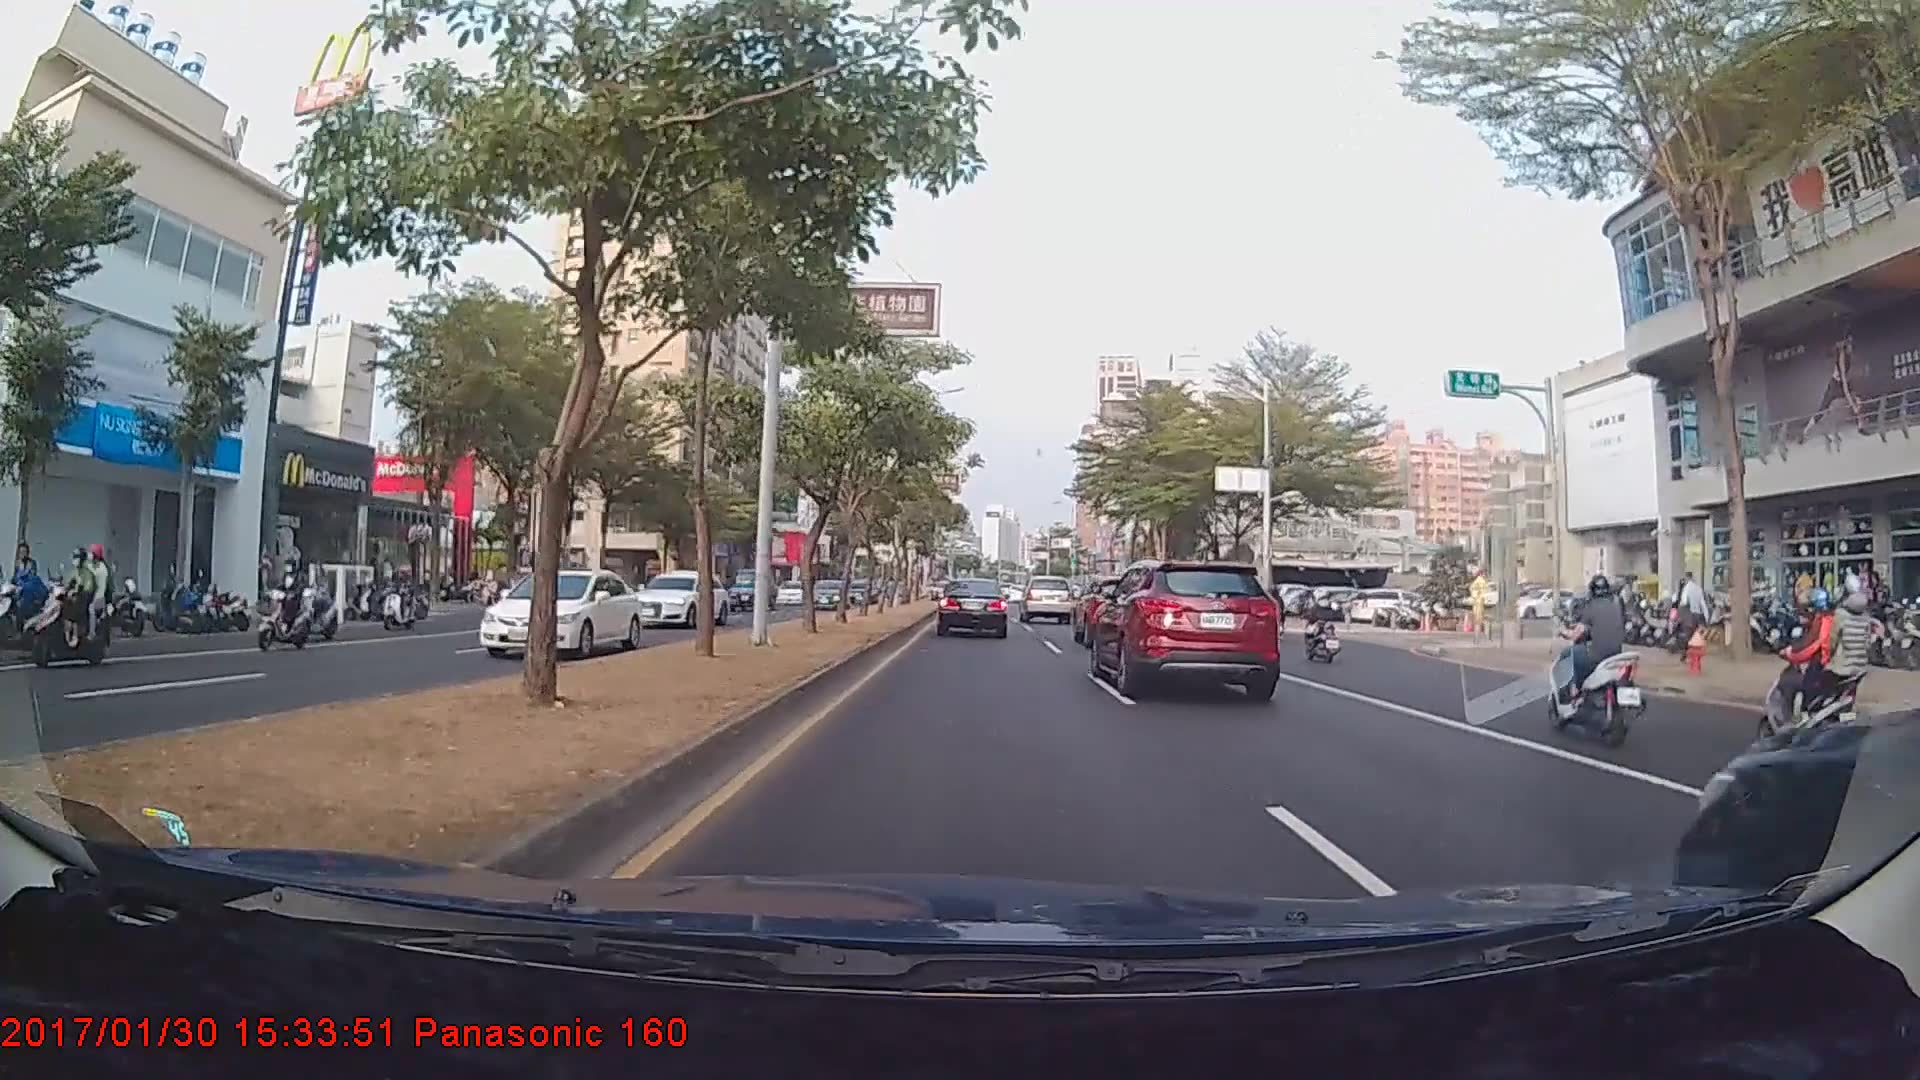pedestrian: (1677, 570, 1711, 664)
rider: (1760, 570, 1885, 737), (1538, 572, 1658, 743), (33, 544, 118, 668), (1, 543, 75, 666), (249, 555, 321, 660), (379, 566, 435, 643), (1300, 586, 1346, 668)
vehicle: (1699, 544, 1920, 926), (1091, 556, 1278, 693), (475, 571, 641, 663), (1072, 577, 1169, 654), (620, 574, 728, 629), (936, 577, 1009, 638), (1018, 573, 1075, 625), (728, 569, 777, 613)
